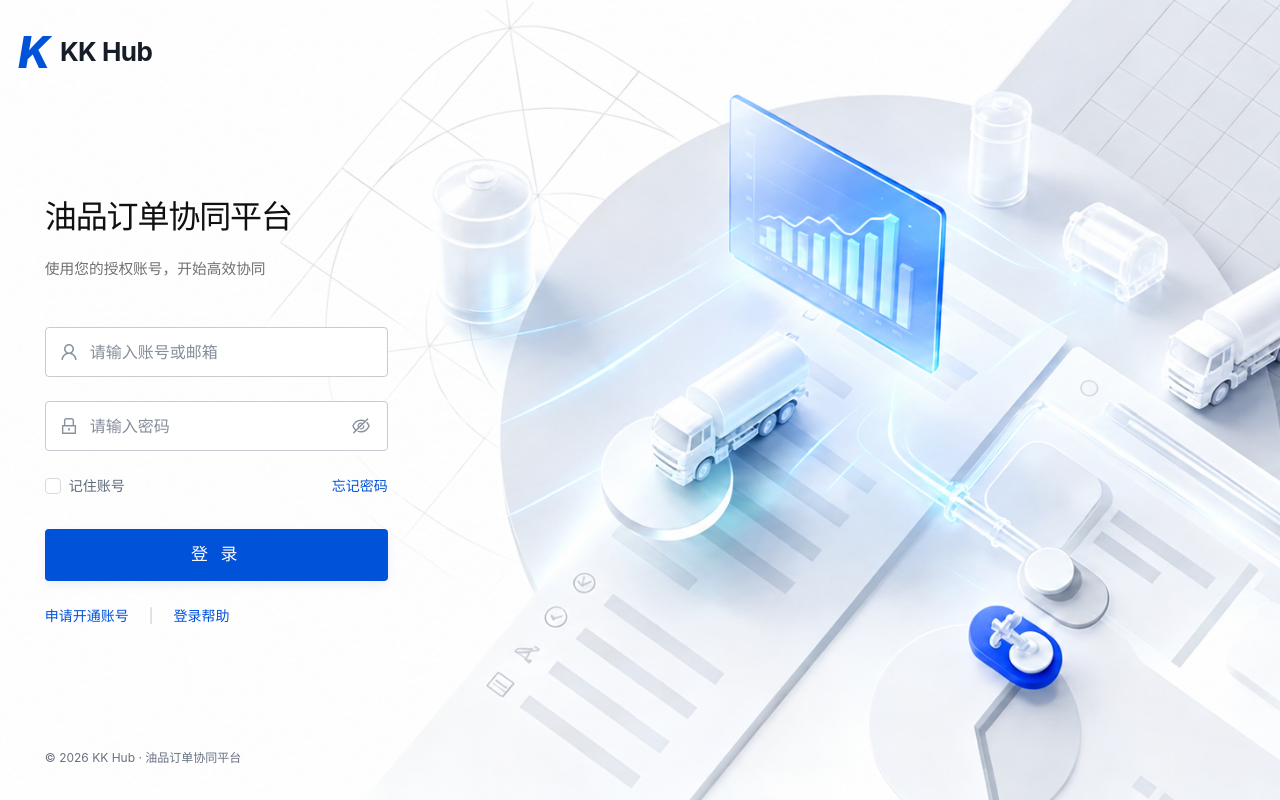
Scenario: Vue login › explains administrator-assisted password recovery without submitting the form
Click the button "忘记密码": (360, 486) x1=332 y1=474 x2=388 y2=496
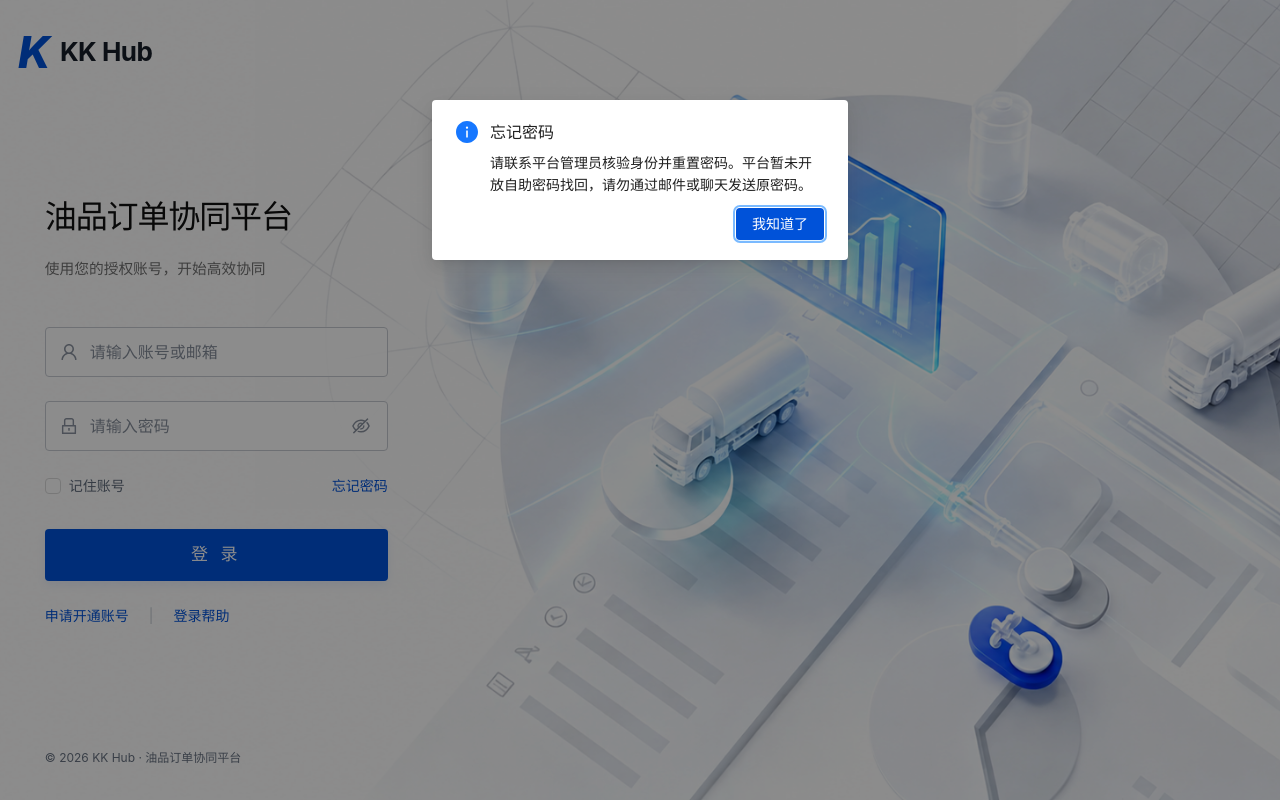
Check: the text "请联系平台管理员核验身份并重置密码" is shown, box x1=490 y1=154 x2=812 y2=193
